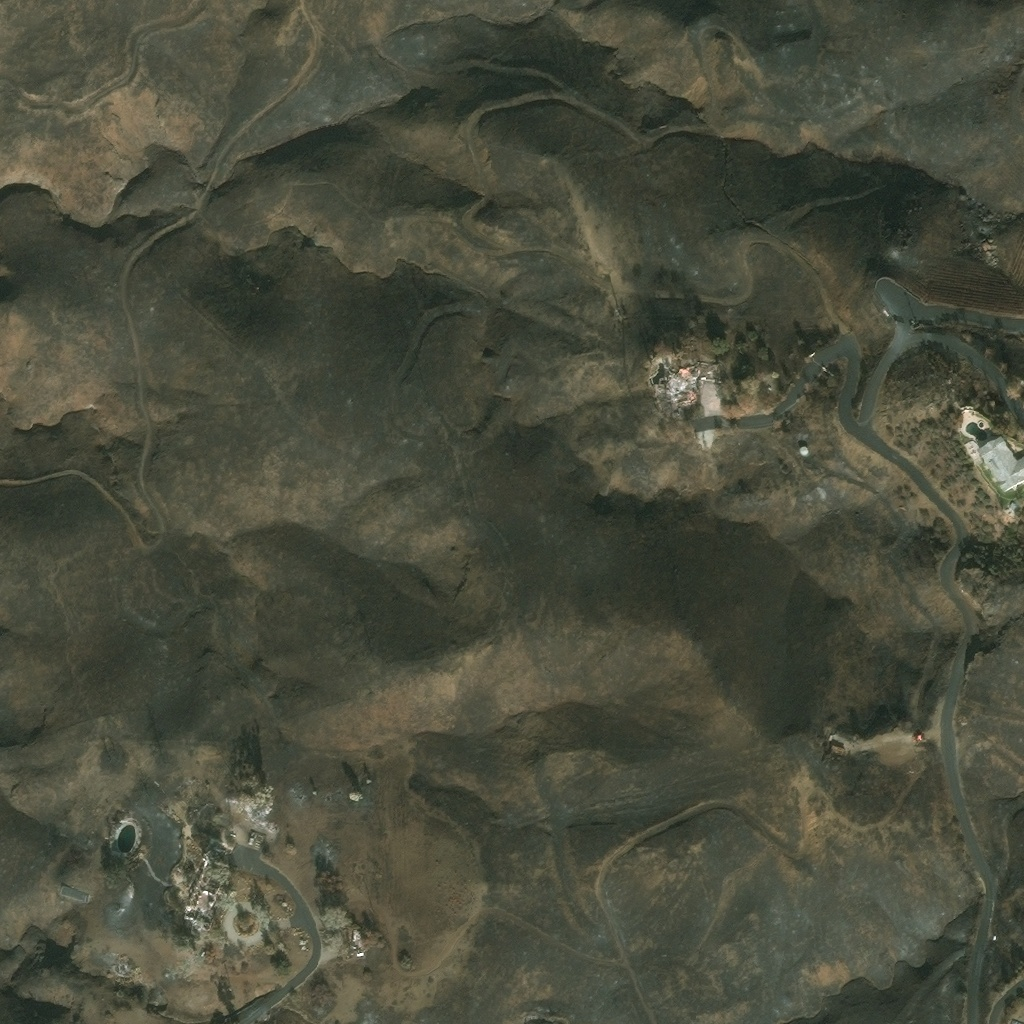0 no-damage: (976, 436, 1023, 492), (799, 445, 808, 455)
1 minor-damage: (59, 883, 89, 902), (991, 933, 997, 939)
2 major-damage: (245, 829, 267, 851), (347, 928, 362, 949), (828, 744, 844, 756)
3 destroyed: (181, 850, 223, 936), (665, 362, 721, 400), (183, 769, 193, 778)
